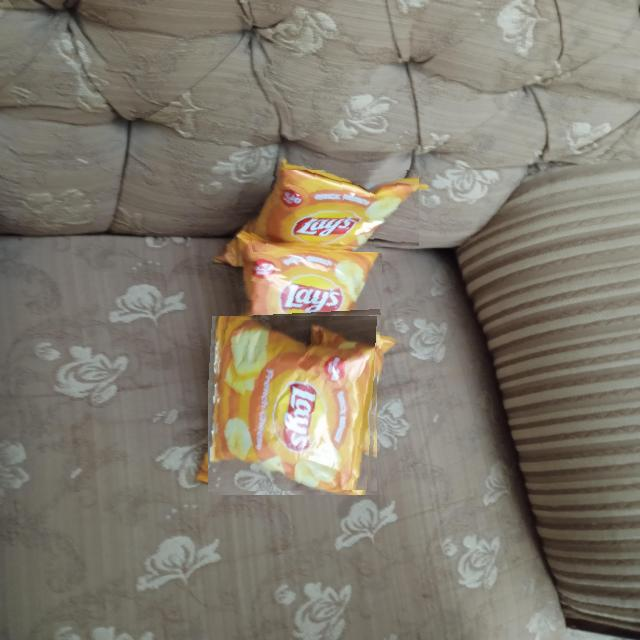Plastic: (208, 320, 381, 492), (246, 170, 419, 252), (240, 252, 382, 322)
